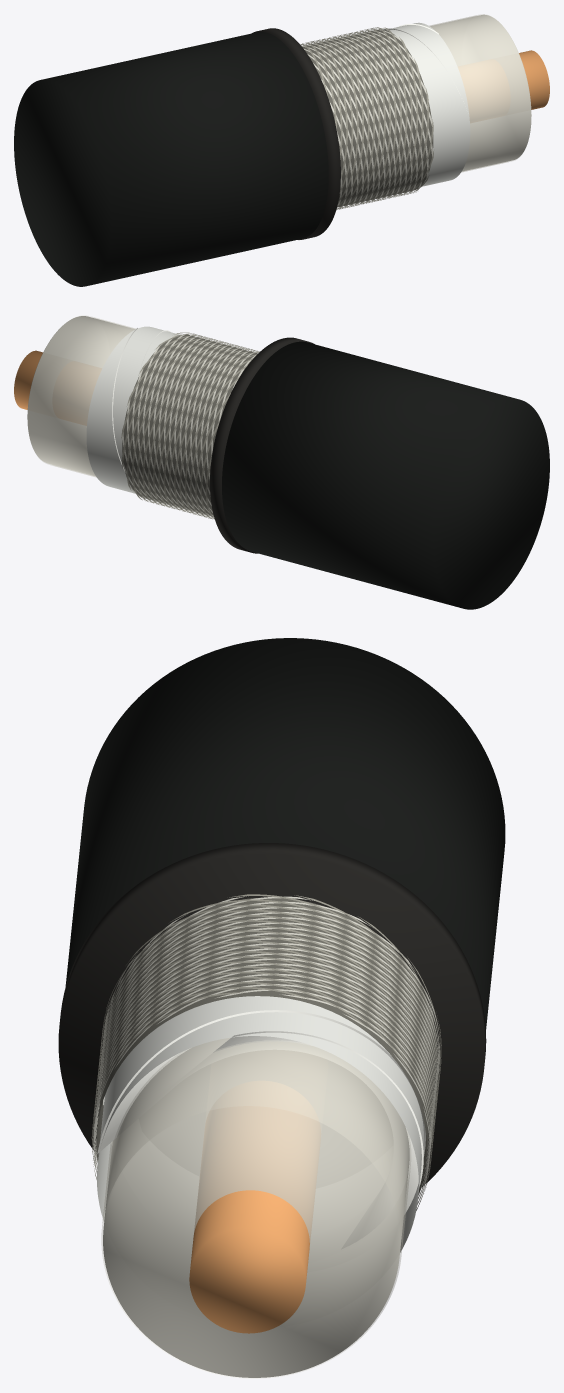
Rendered from rf-belden9913f.glb.
3 renders of one model, top to bottom at view 1: azimuth 30°, elevation 25°; view 2: azimuth 150°, elevation 25°; view 3: azimuth 270°, elevation 25°, orthographic. The views are drawn at different scales.
Parts seen in each view (by area): view 1: matte black pvc jacket body, braid dark diamond recess, smooth dielectric skin, gas injected foam dielectric, duobond foil sleeve, jacket cut lip, solid center conductor continuous, braid left hand woven carrier 12, braid left hand woven carrier 13, braid left hand woven carrier 11, braid left hand woven carrier 14, braid left hand woven carrier 15 (+16 smaller); view 2: matte black pvc jacket body, braid dark diamond recess, smooth dielectric skin, gas injected foam dielectric, duobond foil sleeve, jacket cut lip, solid center conductor continuous, braid left hand woven carrier 07, braid left hand woven carrier 08, braid left hand woven carrier 06, braid left hand woven carrier 09, braid left hand woven carrier 10 (+14 smaller); view 3: matte black pvc jacket body, gas injected foam dielectric, jacket cut lip, solid center conductor continuous, braid dark diamond recess, smooth dielectric skin, duobond foil sleeve, subtle foil wrap lap, braid left hand woven carrier 09, braid left hand woven carrier 08, braid left hand woven carrier 10, braid left hand woven carrier 07 (+20 smaller).
Boxes of the visible parts, bbox=[...] form: matte black pvc jacket body: bbox=[14, 32, 328, 286]; braid dark diamond recess: bbox=[302, 29, 433, 207]; smooth dielectric skin: bbox=[429, 14, 530, 172]; gas injected foam dielectric: bbox=[430, 14, 531, 171]; duobond foil sleeve: bbox=[386, 22, 470, 186]; jacket cut lip: bbox=[252, 28, 340, 239]; solid center conductor continuous: bbox=[519, 50, 549, 109]; braid left hand woven carrier 12: bbox=[302, 42, 423, 200]; braid left hand woven carrier 13: bbox=[305, 41, 428, 199]; braid left hand woven carrier 11: bbox=[300, 37, 418, 201]; braid left hand woven carrier 14: bbox=[311, 40, 433, 197]; braid left hand woven carrier 15: bbox=[316, 39, 433, 196]; matte black pvc jacket body: bbox=[222, 341, 549, 609]; braid dark diamond recess: bbox=[122, 334, 257, 516]; smooth dielectric skin: bbox=[28, 315, 135, 477]; gas injected foam dielectric: bbox=[27, 316, 134, 476]; duobond foil sleeve: bbox=[86, 326, 179, 493]; jacket cut lip: bbox=[210, 337, 314, 553]; solid center conductor continuous: bbox=[14, 350, 42, 409]; braid left hand woven carrier 07: bbox=[121, 338, 223, 519]; braid left hand woven carrier 08: bbox=[126, 336, 230, 518]; braid left hand woven carrier 06: bbox=[121, 339, 228, 518]; braid left hand woven carrier 09: bbox=[139, 335, 239, 517]; braid left hand woven carrier 10: bbox=[155, 334, 247, 515]; matte black pvc jacket body: bbox=[65, 638, 505, 1028]; gas injected foam dielectric: bbox=[103, 1037, 409, 1377]; jacket cut lip: bbox=[58, 843, 486, 1187]; solid center conductor continuous: bbox=[189, 1106, 320, 1333]; braid dark diamond recess: bbox=[96, 897, 436, 1194]; smooth dielectric skin: bbox=[101, 1038, 410, 1378]; duobond foil sleeve: bbox=[97, 996, 423, 1252]; subtle foil wrap lap: bbox=[97, 1010, 425, 1248]; braid left hand woven carrier 09: bbox=[94, 899, 438, 1119]; braid left hand woven carrier 08: bbox=[95, 894, 439, 1113]; braid left hand woven carrier 10: bbox=[94, 904, 438, 1125]; braid left hand woven carrier 07: bbox=[95, 895, 439, 1131].
Size of the model in its own units: 6.57 by 2.6 by 2.72.
